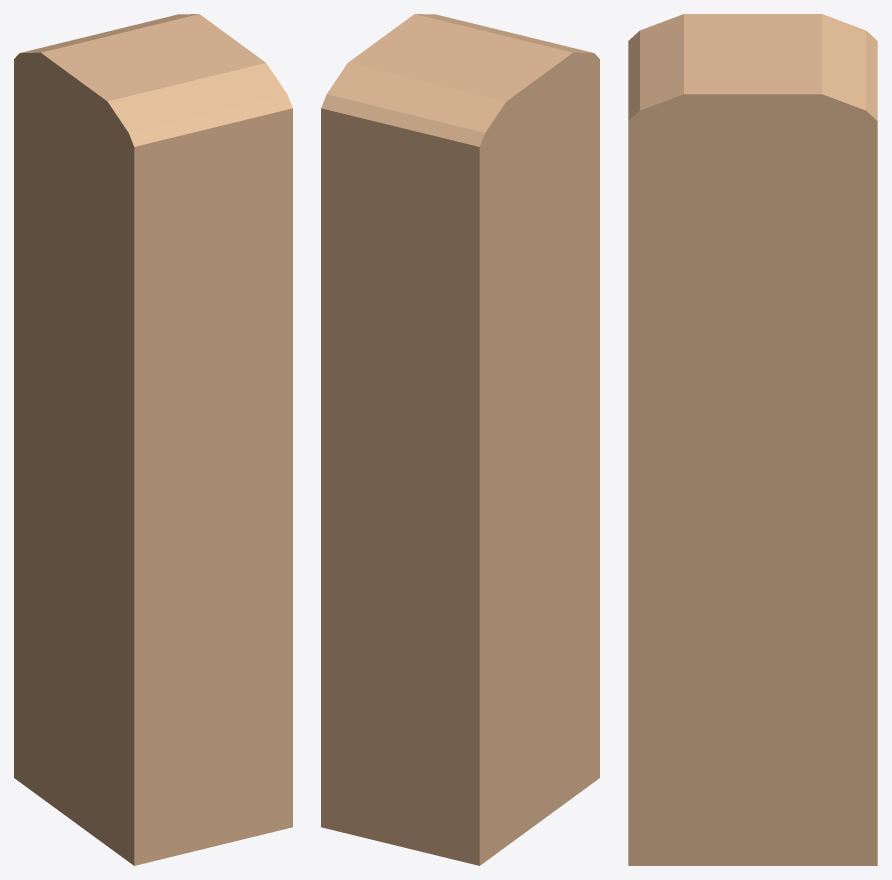
Rendered from Post B.glb.
3 views of the same model, side by side, from view 1: azimuth 30°, elevation 25°; view 2: azimuth 150°, elevation 25°; view 3: azimuth 270°, elevation 25° (orthographic). The views are drawn at different scales.
Parts seen in each view (by area): view 1: Post B; view 2: Post B; view 3: Post B.
Part boxes in pixels (left/top/right/bottom): Post B: left=14, top=14, right=292, bottom=865; Post B: left=321, top=14, right=599, bottom=865; Post B: left=628, top=14, right=877, bottom=865.
Size of the model in its own units: 0.0915 by 0.4104 by 0.12.
